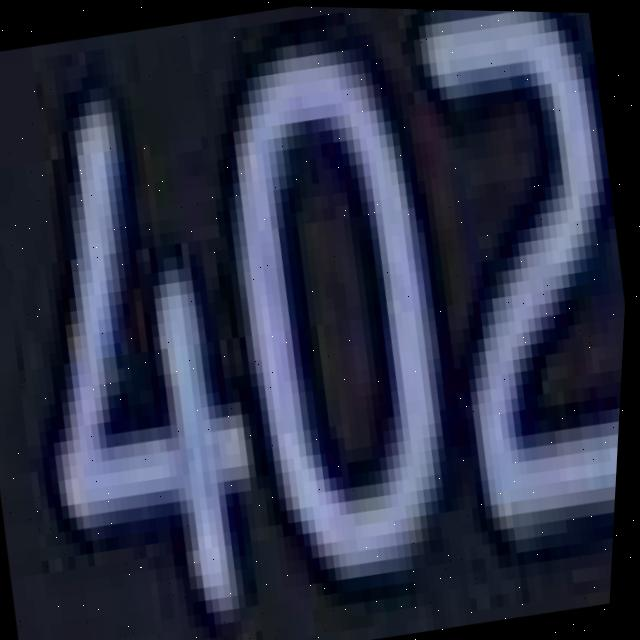character: (174, 8, 499, 610), (0, 53, 305, 640), (377, 9, 640, 561)
